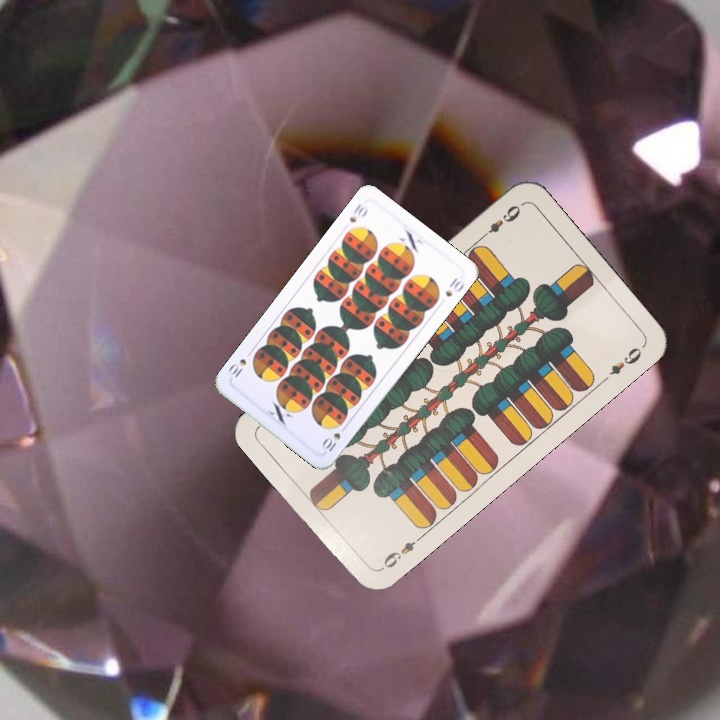E9: (376, 531, 426, 573), (476, 200, 524, 243)
S10: (345, 199, 371, 225), (318, 429, 343, 455)
